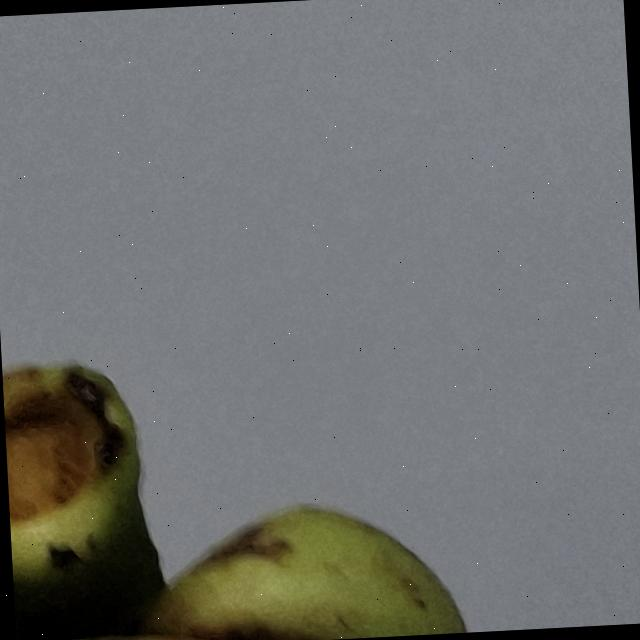mangosteen: (1, 328, 640, 640)
